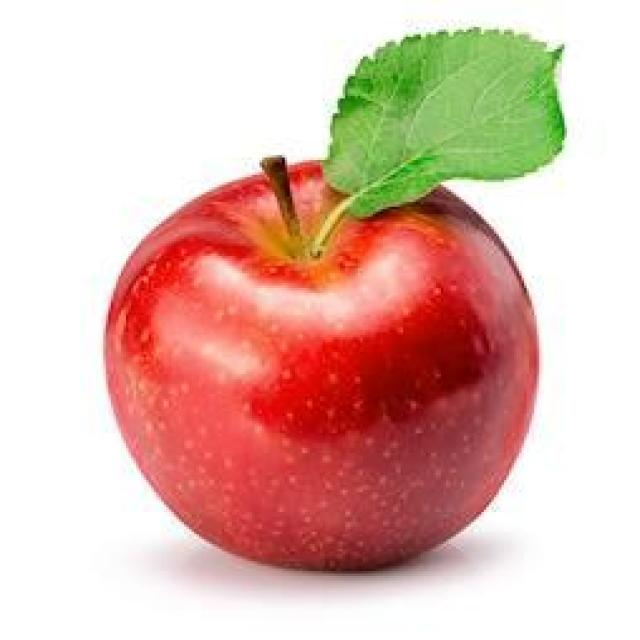apple: (102, 155, 540, 576)
